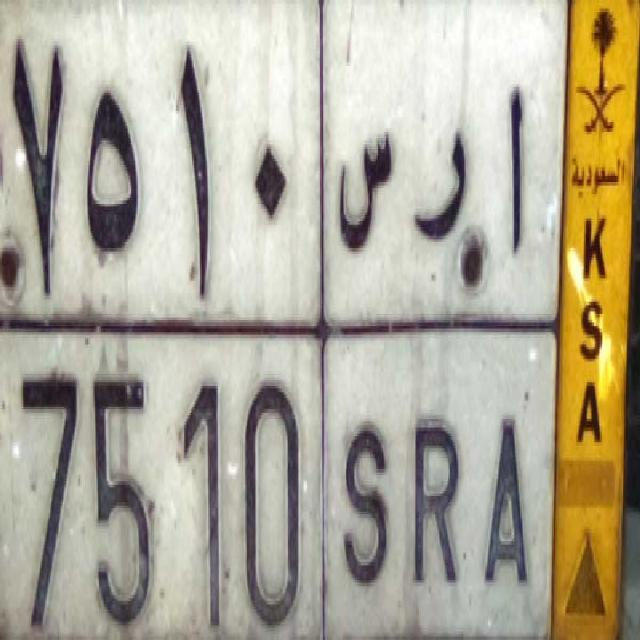license_plate: (0, 311, 552, 640)
